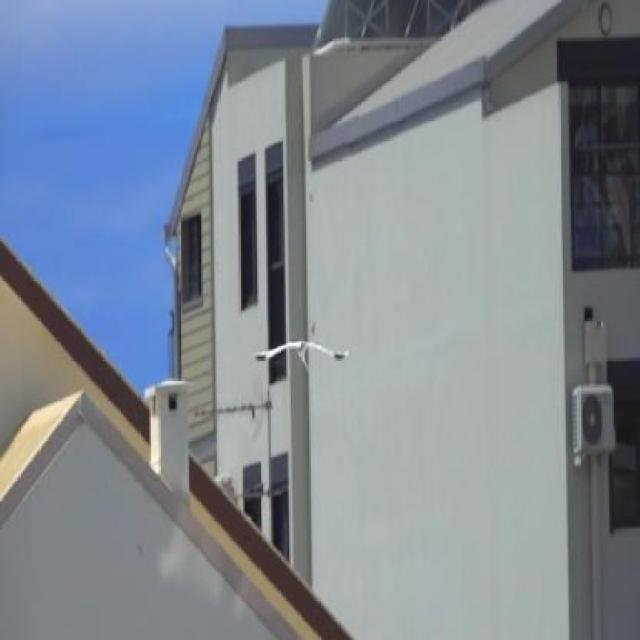bird: (246, 322, 357, 400)
